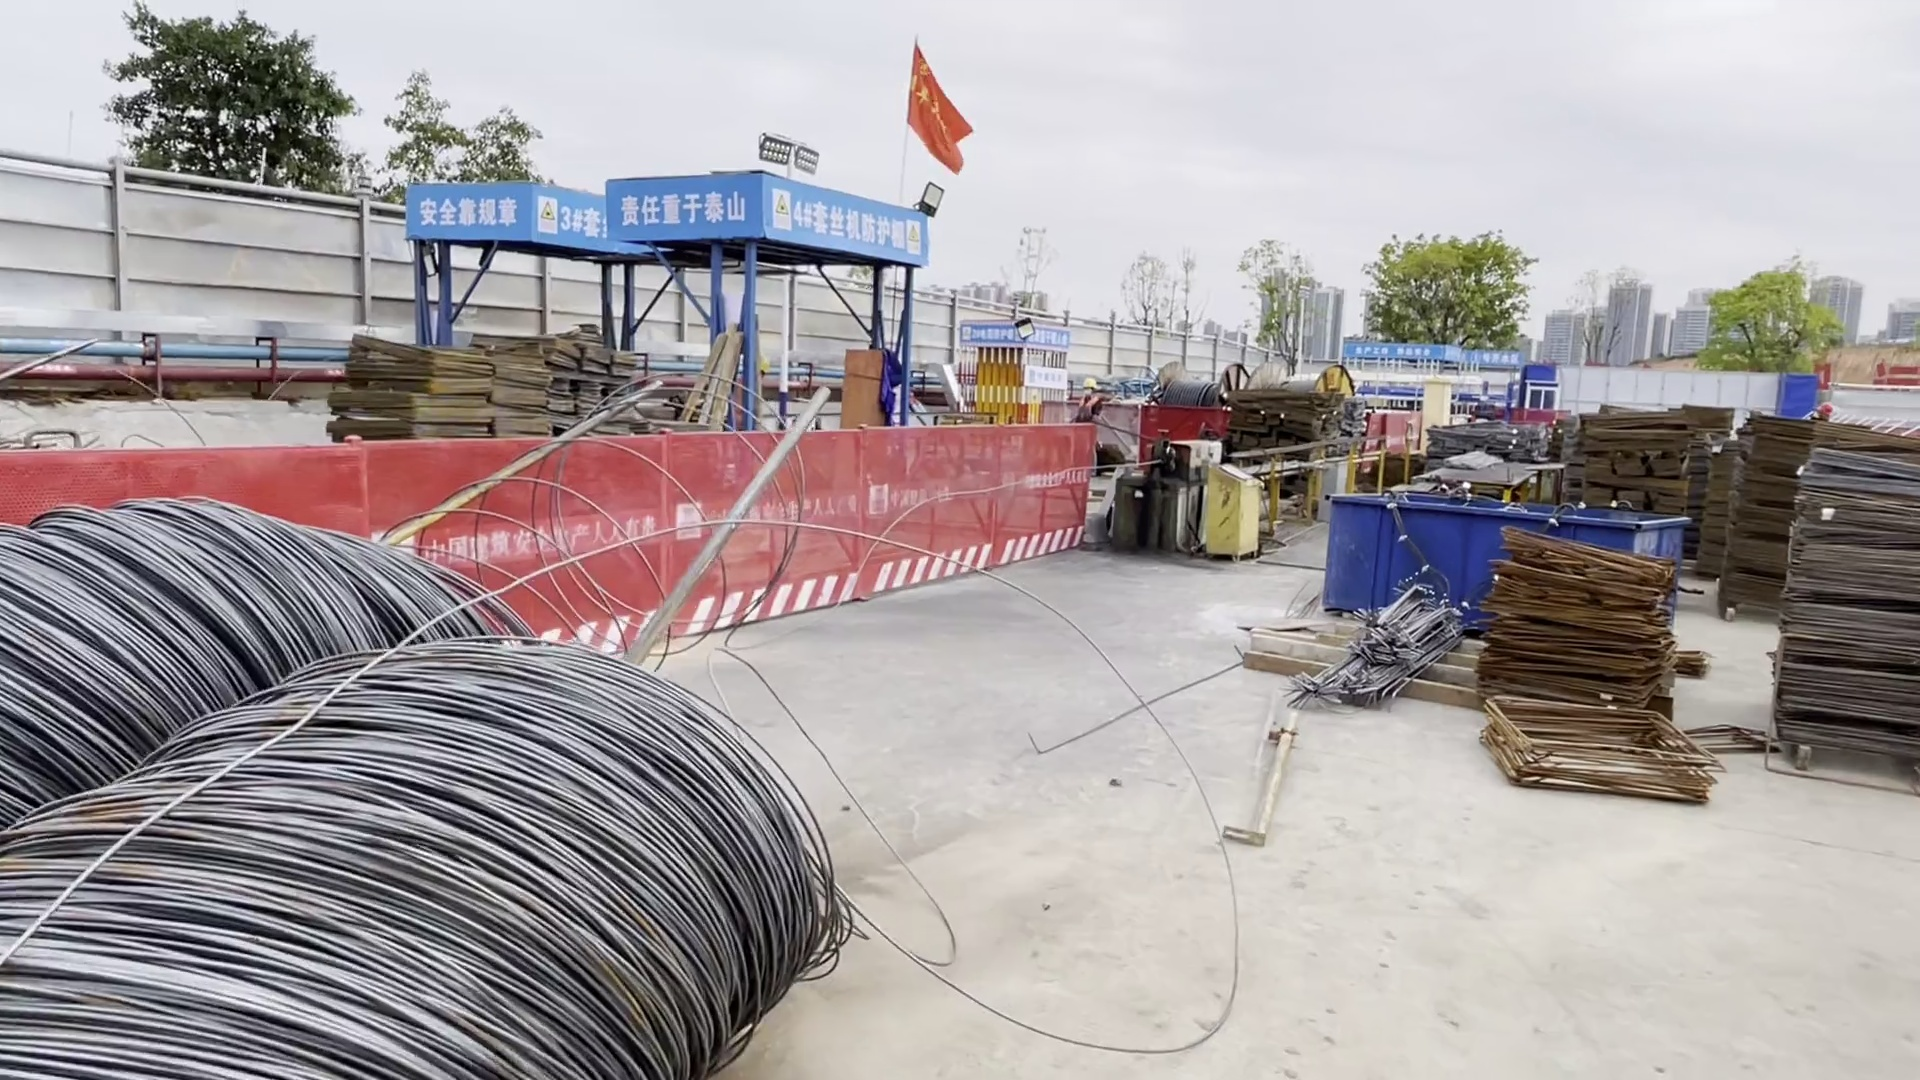ebox: (1421, 380, 1446, 447)
fence: (6, 441, 1090, 601)
helmet: (1819, 400, 1834, 419), (1084, 374, 1100, 386)
hopper: (1317, 484, 1676, 619)
person: (1080, 377, 1101, 426)
rebar: (1307, 587, 1463, 701)
slogan: (610, 184, 916, 250), (411, 189, 590, 236), (1347, 342, 1513, 367), (962, 324, 1065, 348)
vest: (1078, 393, 1101, 416)
